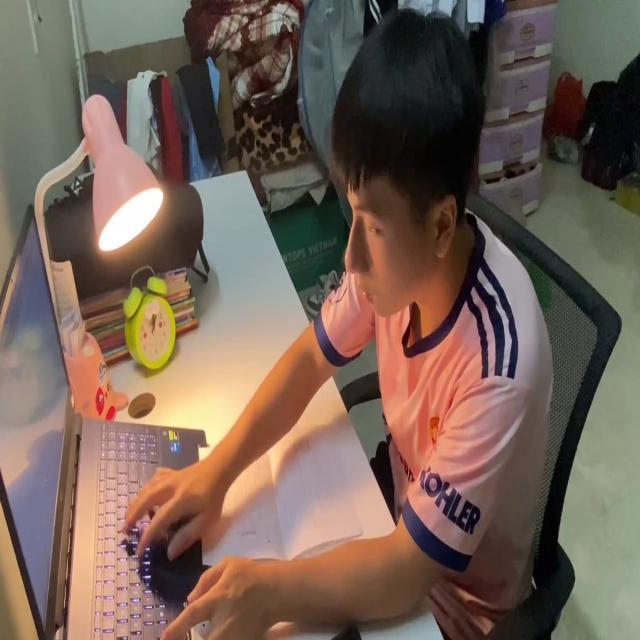book: (196, 432, 365, 568)
laptop: (0, 196, 219, 640)
student: (123, 15, 555, 640)
